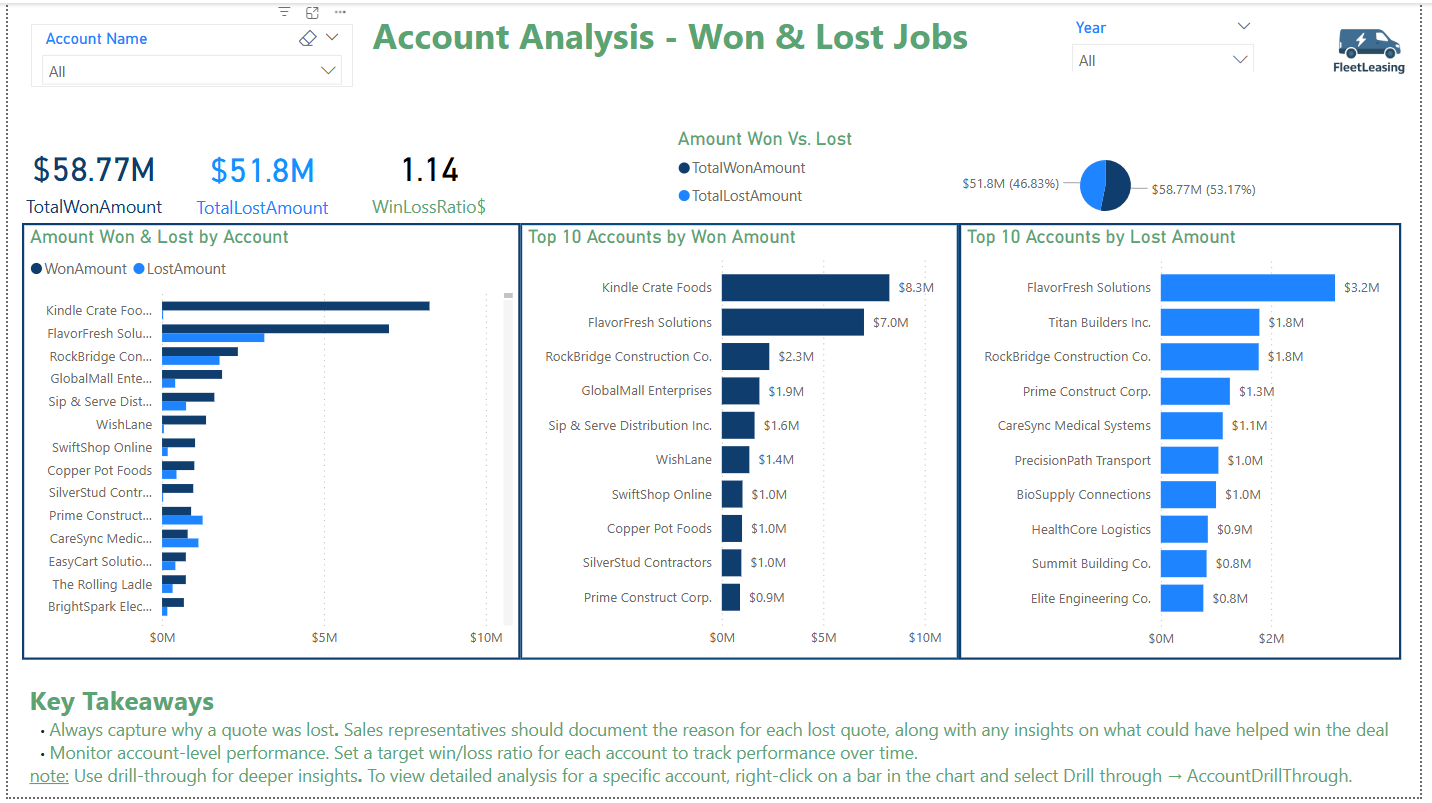

What the dashboard file says about the page in this screenshot:
{"tool":"powerbi","page":{"name":" Accounts","canvas":[1280,720],"ordinal":0},"visuals":[{"type":"barChart","title":"Top 10 Accounts by Won Amount Chart","fields":{"Category":["WonLostPipeline.Account Name"],"Y":["_Measure.WonAmountByAccount"]},"box":[462.5,276.2,398.8,320],"z":0},{"type":"slicer","fields":{"Values":["DimDate.Date.Variation.Date Hierarchy.Year"]},"box":[954.9,9.1,185,52.6],"z":1000},{"type":"card","fields":{"Values":["_Measures.WinLossRatio_WithIcon"]},"box":[314.9,162,163.1,66.2],"z":2000},{"type":"clusteredBarChart","title":" Amount Won & Lost by Account Chart","fields":{"Category":["WonLostPipeline.Account Name"],"Y":["_Measures.TotalWonAmount","_Measures.TotalLostAmount"]},"box":[11.4,277.2,451.8,318.3],"z":3000},{"type":"pieChart","title":"Amount Won Vs. Lost","fields":{"Y":["_Measure.TotalWonAmount","_Measure.TotalLostAmount"]},"box":[617.2,156.3,646.8,86.7],"z":4000},{"type":"card","fields":{"Values":["_Measure.TotalLostAmount"]},"box":[160.9,163.1,168.8,65],"z":5000},{"type":"card","fields":{"Values":["_Measure.TotalWonAmount"]},"box":[14.8,162,155.2,66.2],"z":6000},{"type":"slicer","fields":{"Values":["WonLostPipeline.Account Name"]},"box":[20.9,19,292,57.1],"z":7000},{"type":"textbox","box":[337.2,1.1,563.8,53.7],"z":8000},{"type":"barChart","title":"Top 10 Accounts by Lost Amount Chart","fields":{"Category":["WonLostPipeline.Account Name"],"Y":["_Measure.TotalLostAmount"]},"box":[862.4,276.6,401.7,319.2],"z":9000},{"type":"textbox","box":[14.5,606.6,1256.8,112.4],"z":10000},{"type":"image","box":[1188.6,1,91.4,93.4],"z":11000},{"type":"shape","box":[0,197.5,1280.5,6.1],"z":12000},{"type":"shape","box":[12.5,141.5,1258.3,12.5],"z":13000},{"type":"pageNavigator","box":[48.1,94.3,1220,49],"z":14000},{"type":"bookmarkNavigator","box":[12.2,253.3,309.6,23.3],"z":17000},{"type":"bookmarkNavigator","box":[465,253.3,309.6,23.3],"z":18000},{"type":"bookmarkNavigator","box":[863.9,253.3,308.4,23.3],"z":19000}]}

Visuals, with their boxes in screenshot pixels (x1, y1, x2, y2), scaled from the page's 1280x720 canvas onto the 1432x803 screenshot:
"Top 10 Accounts by Won Amount Chart" barChart: [left=517, top=308, right=964, bottom=665]
slicer - DimDate.Date.Variation.Date Hierarchy.Year: [left=1068, top=10, right=1275, bottom=69]
card - _Measures.WinLossRatio_WithIcon: [left=352, top=181, right=535, bottom=255]
" Amount Won & Lost by Account Chart" clusteredBarChart: [left=13, top=309, right=518, bottom=664]
"Amount Won Vs. Lost" pieChart: [left=690, top=174, right=1414, bottom=271]
card - _Measure.TotalLostAmount: [left=180, top=182, right=369, bottom=254]
card - _Measure.TotalWonAmount: [left=17, top=181, right=190, bottom=255]
slicer - WonLostPipeline.Account Name: [left=23, top=21, right=350, bottom=85]
textbox: [left=377, top=1, right=1008, bottom=61]
"Top 10 Accounts by Lost Amount Chart" barChart: [left=965, top=308, right=1414, bottom=664]
textbox: [left=16, top=677, right=1422, bottom=802]
image: [left=1330, top=1, right=1431, bottom=105]
shape: [left=0, top=220, right=1431, bottom=227]
shape: [left=14, top=158, right=1422, bottom=172]
pageNavigator: [left=54, top=105, right=1419, bottom=160]
bookmarkNavigator: [left=14, top=282, right=360, bottom=308]
bookmarkNavigator: [left=520, top=282, right=867, bottom=308]
bookmarkNavigator: [left=966, top=282, right=1312, bottom=308]
